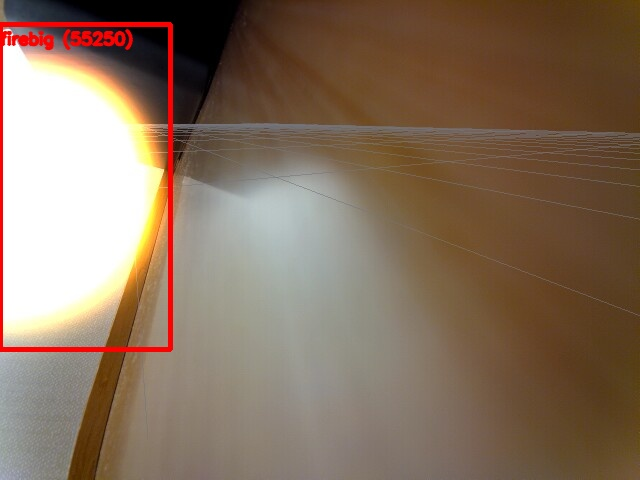firebig: (0, 24, 170, 349)
